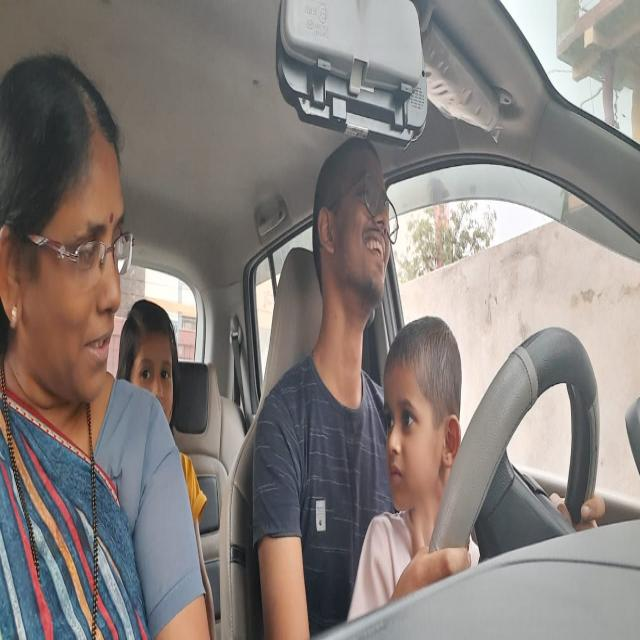child: (380, 340, 451, 508)
person: (5, 73, 126, 407), (316, 132, 394, 320), (126, 306, 180, 428)
